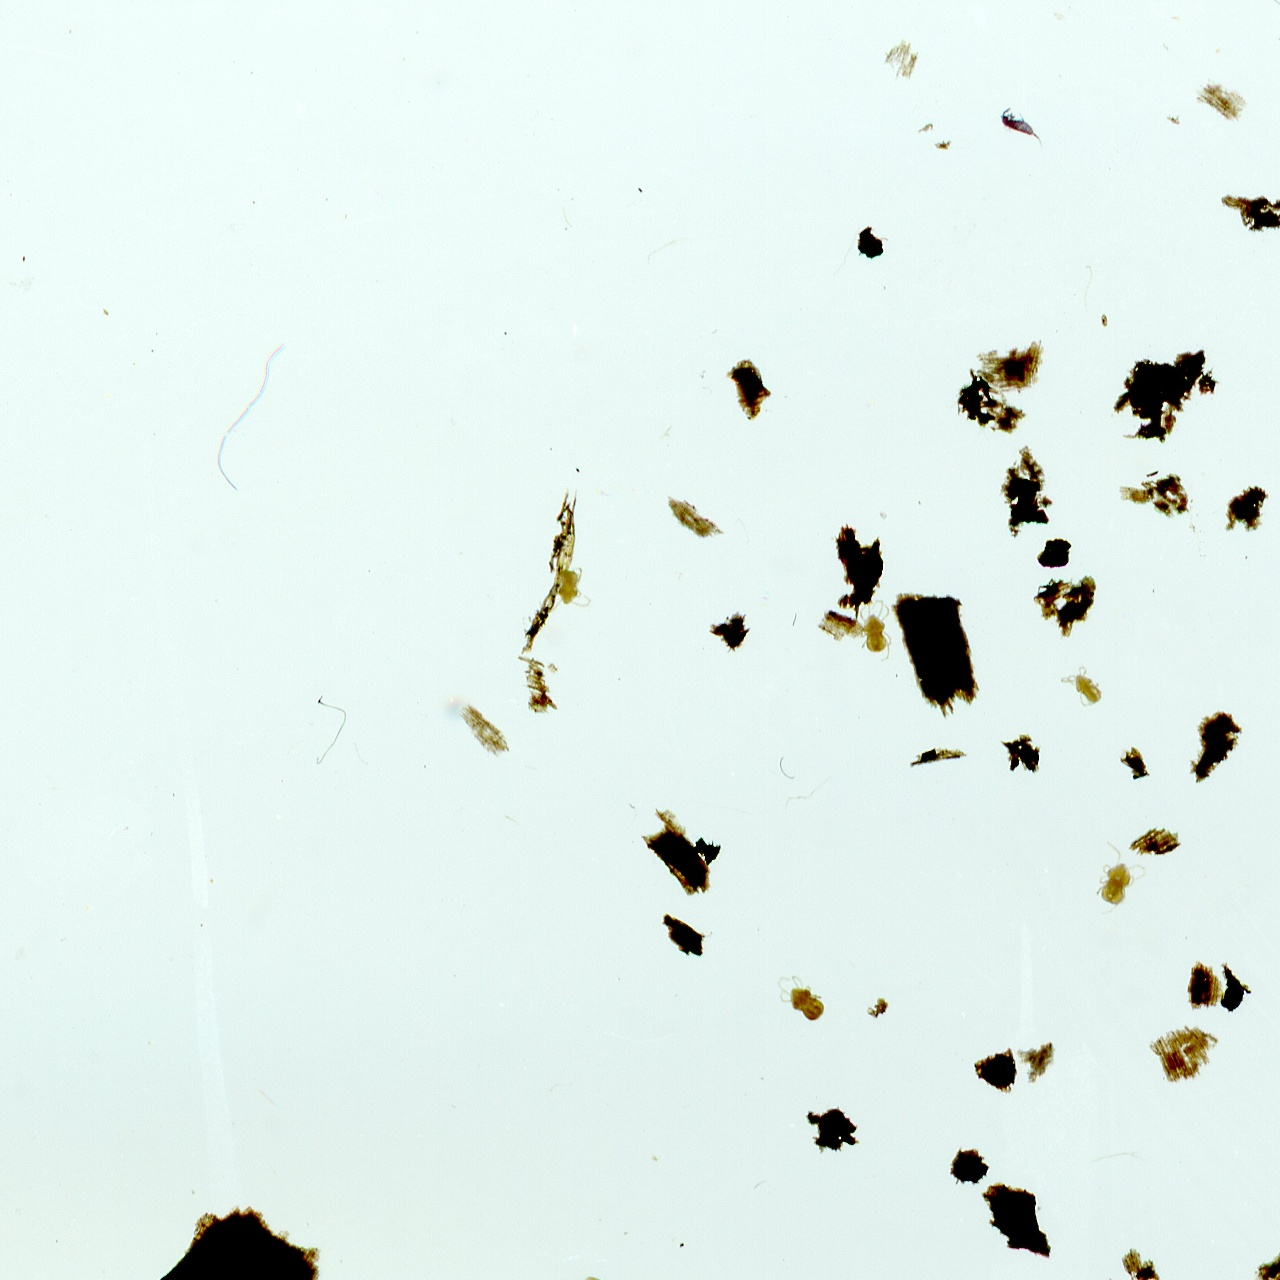arthropod: (1091, 839, 1151, 917), (852, 594, 894, 665), (545, 561, 594, 619), (775, 974, 829, 1022), (998, 105, 1046, 151), (1057, 661, 1103, 708)
